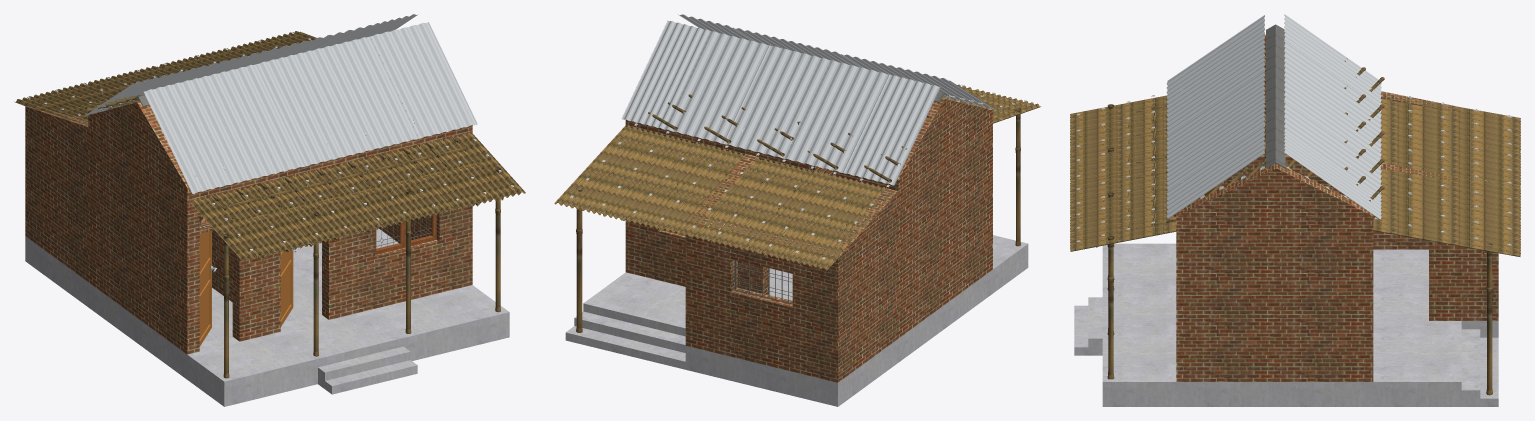
Rendered from KERALA TYPE 1.glb.
3 views of the same model, side by side, from view 1: azimuth 30°, elevation 25°; view 2: azimuth 150°, elevation 25°; view 3: azimuth 270°, elevation 25° (orthographic). The views are drawn at different scales.
Visible parts, largest first — view 1: G-Object.438, G-Object.001, C-Component#29.012, C-Component#29.010, C-Component#29.009, C-Component#29.008, C-Component#29.011, G-Object.440, G-Object.002, C-Component#29.001, C-Component#29.005, C-Component#29.007 (+19 smaller); view 2: G-Object.438, G-Object.001, C-Component#29.013, C-Component#29.017, C-Component#29.016, C-Component#29.015, C-Component#29.014, C-Component#29.019, C-Component#29.021, C-Component#29.025, C-Component#29.023, C-Component#29.018 (+13 smaller); view 3: G-Object.438, G-Object.001, G-Object.439, C-Component#29.013, C-Component#29.017, C-Component#29.010, C-Component#29.012, C-Component#29.009, C-Component#29.016, C-Component#29.019, C-Component#29.008, C-Component#29.011 (+21 smaller).
Boxes of the visible parts, box(x1,y1,x2,y2) form: G-Object.438: box(25, 71, 472, 354); G-Object.001: box(25, 228, 509, 406); C-Component#29.012: box(144, 77, 250, 193); C-Component#29.010: box(370, 22, 477, 138); C-Component#29.009: box(257, 49, 364, 166); C-Component#29.008: box(315, 36, 418, 151); C-Component#29.011: box(202, 64, 305, 179); G-Object.440: box(88, 101, 188, 187); G-Object.002: box(318, 346, 417, 394); C-Component#29.001: box(190, 192, 279, 261); C-Component#29.005: box(331, 158, 420, 227); C-Component#29.007: box(402, 141, 491, 210); G-Object.438: box(625, 98, 992, 382); G-Object.001: box(565, 235, 1028, 406); C-Component#29.013: box(723, 45, 831, 158); C-Component#29.017: box(662, 31, 769, 143); C-Component#29.016: box(785, 60, 889, 172); C-Component#29.015: box(843, 75, 940, 185); C-Component#29.014: box(621, 20, 710, 129); C-Component#29.019: box(554, 125, 659, 212); C-Component#29.021: box(623, 142, 727, 228); C-Component#29.025: box(759, 174, 864, 262); C-Component#29.023: box(691, 158, 795, 245); C-Component#29.018: box(589, 133, 692, 220); G-Object.438: box(1176, 83, 1498, 381); G-Object.001: box(1102, 243, 1498, 406); G-Object.439: box(1176, 163, 1373, 215); C-Component#29.013: box(1284, 69, 1381, 167); C-Component#29.017: box(1284, 101, 1381, 197); C-Component#29.010: box(1166, 125, 1264, 218); C-Component#29.012: box(1166, 15, 1264, 108); C-Component#29.009: box(1166, 70, 1264, 163); C-Component#29.016: box(1284, 40, 1381, 134); C-Component#29.019: box(1372, 213, 1520, 256); C-Component#29.008: box(1166, 97, 1265, 190); C-Component#29.011: box(1166, 42, 1265, 135).
Bounding box in the file's own units: 5.37 × 4.58 × 7.33.
12 materials, 9 textured.
